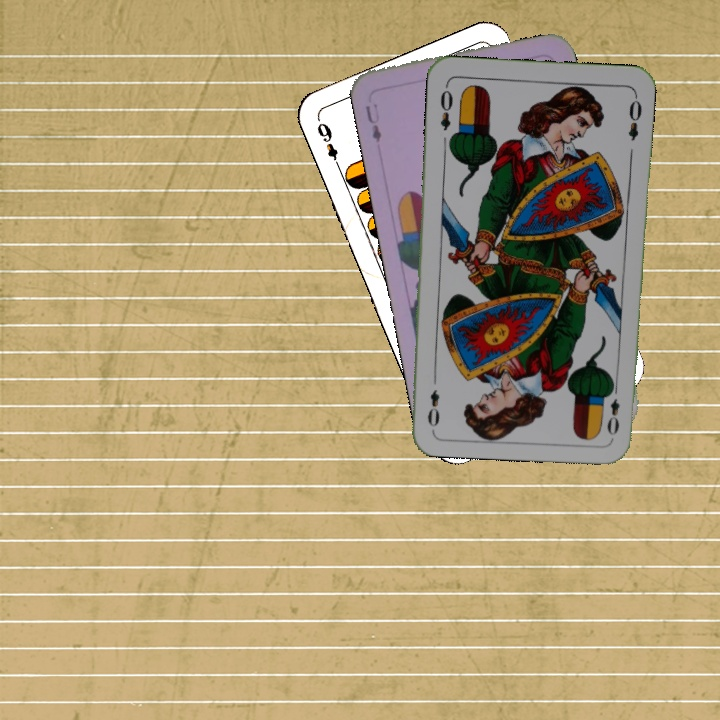E9: (313, 118, 344, 172)
EO: (603, 380, 622, 438), (436, 81, 456, 133)
EU: (361, 99, 384, 145)
